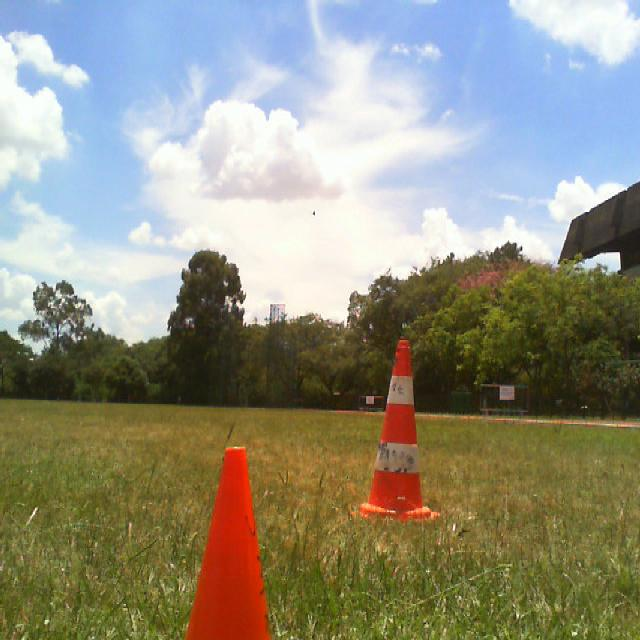cone: (183, 445, 270, 639), (352, 340, 440, 520)
